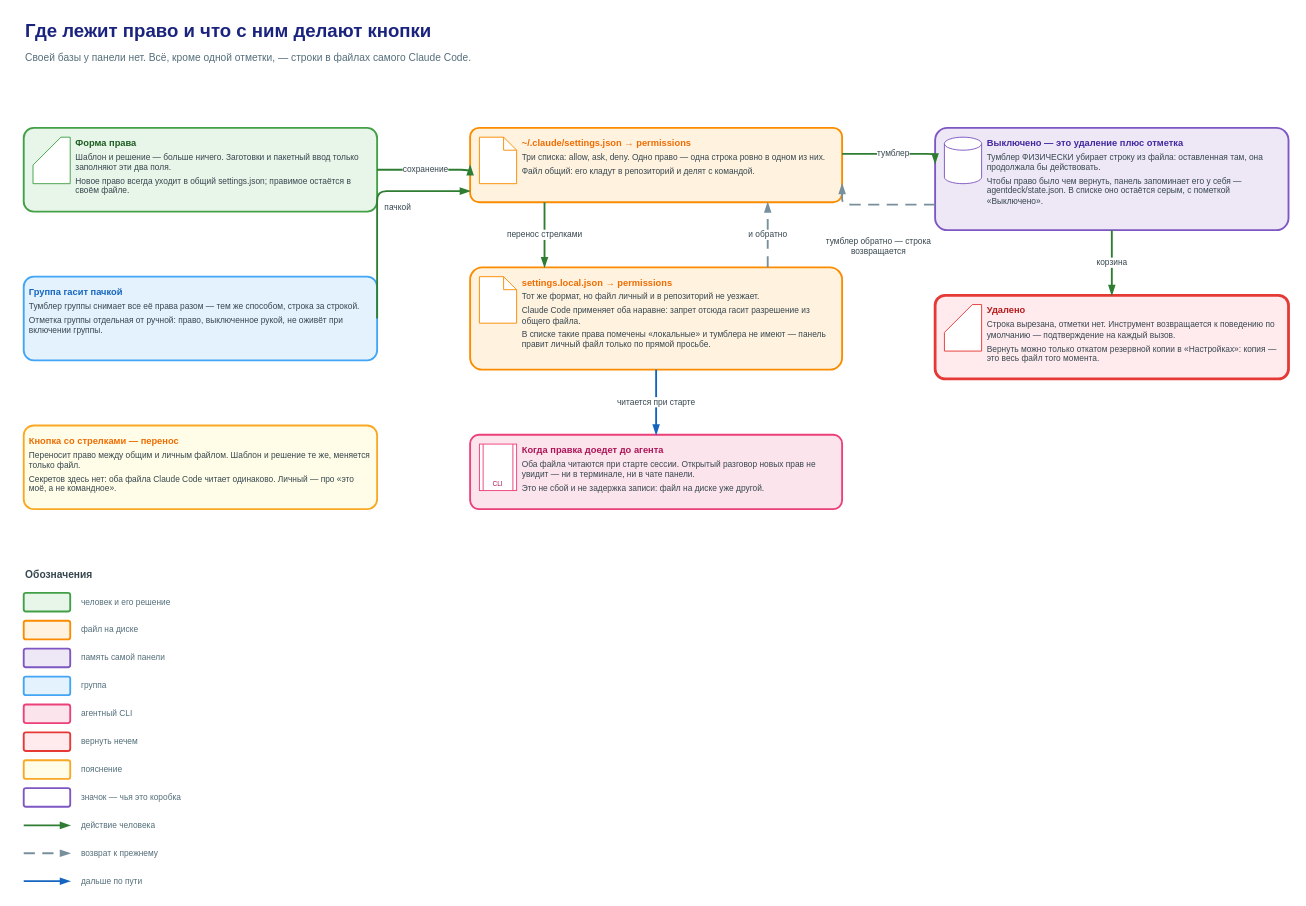
This 1306x906 diagram has some shape labels left out. Here are the shapes that lost their labels. From the top down, the box of each, then its label:
(32, 136, 70, 184): вы
(478, 136, 517, 184): json
(943, 136, 982, 184): state
(478, 276, 517, 323): local
(943, 304, 982, 351): нет
